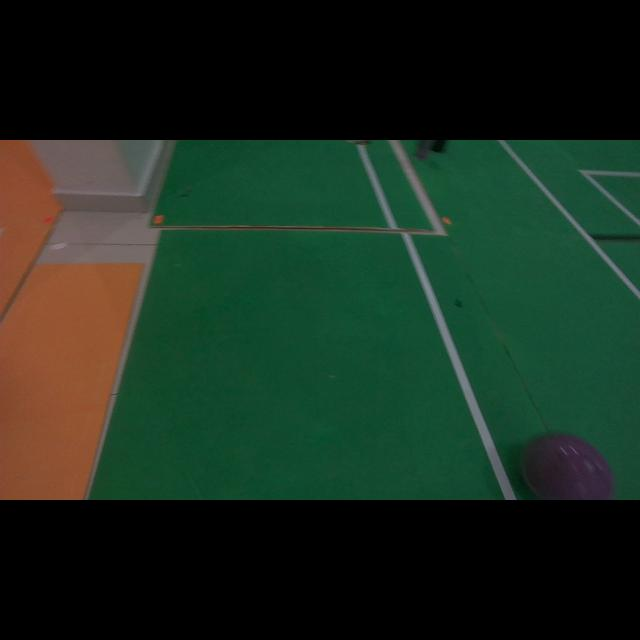P: (521, 435, 615, 499)
